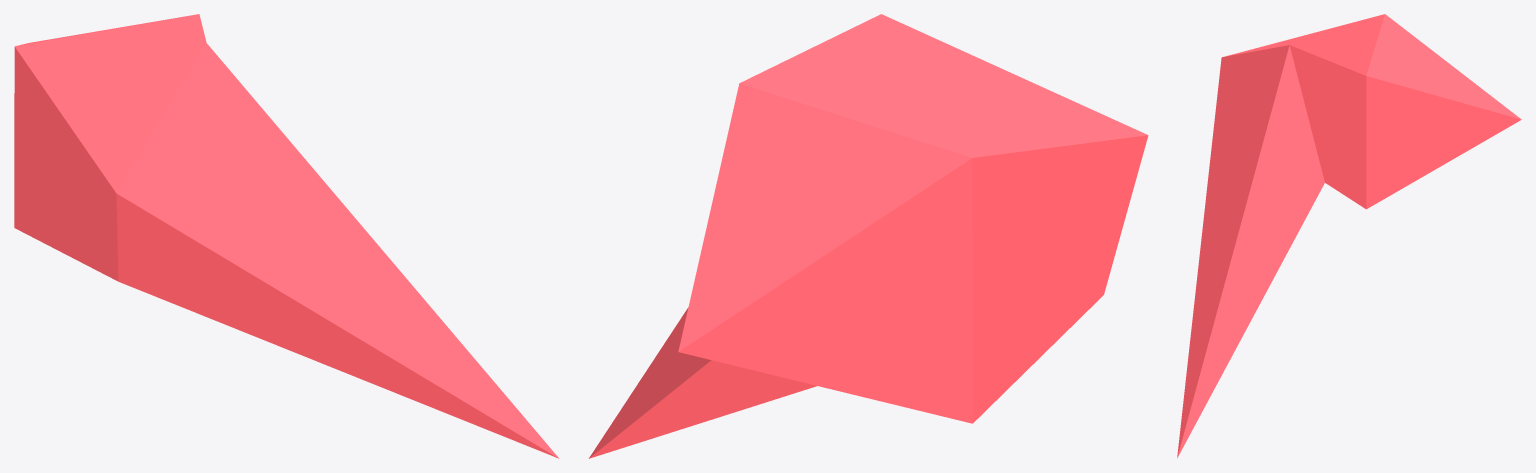
File: H1_RPl_Blob5.gltf
The picture shows the model from 3 angles, left to right: view 1: azimuth 30°, elevation 25°; view 2: azimuth 150°, elevation 25°; view 3: azimuth 270°, elevation 25°; orthographic projection. The views are drawn at different scales.
Visible parts, largest first — view 1: H1_RPl_Blob5; view 2: H1_RPl_Blob5; view 3: H1_RPl_Blob5.
Boxes of the visible parts, <box> form: H1_RPl_Blob5: <box>14,14,559,458</box>; H1_RPl_Blob5: <box>588,14,1148,458</box>; H1_RPl_Blob5: <box>1177,14,1521,458</box>.
Bounding box in the file's own units: 0.8952 × 0.8856 × 0.8798.
